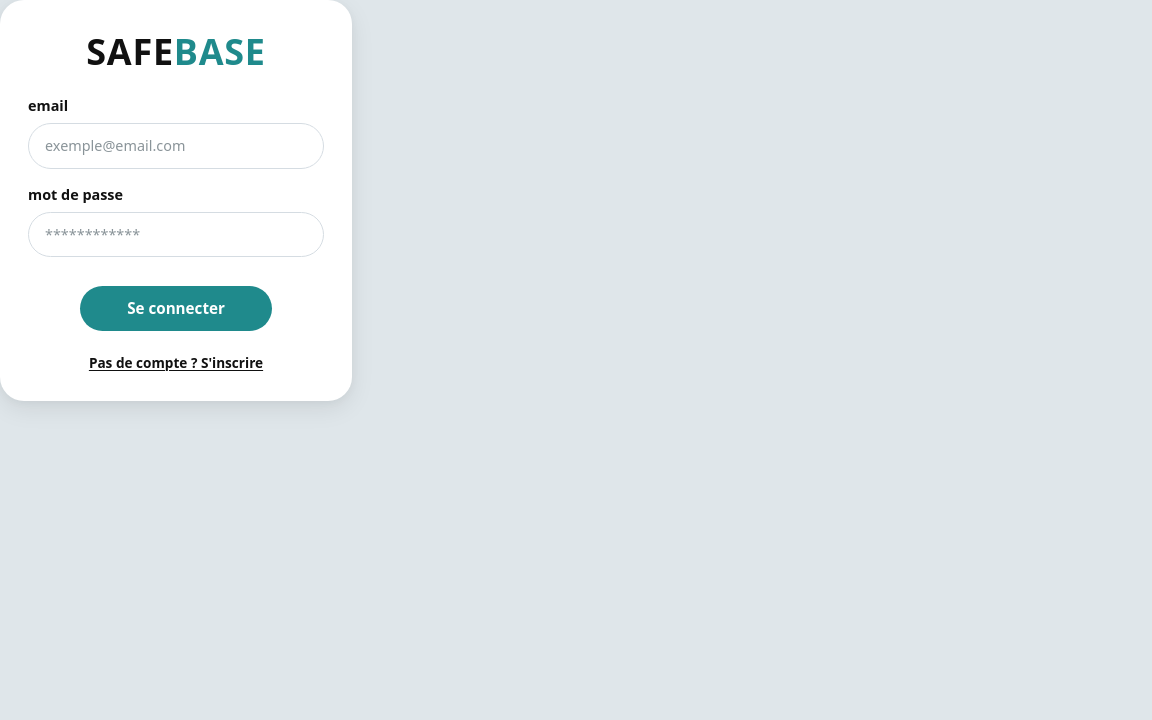
it: login › wrong password (US00-05) -> same generic message, stays on the login page
In the field labelled "email": [176, 146] box [28,123,324,169], type "emma@safebase.dev"
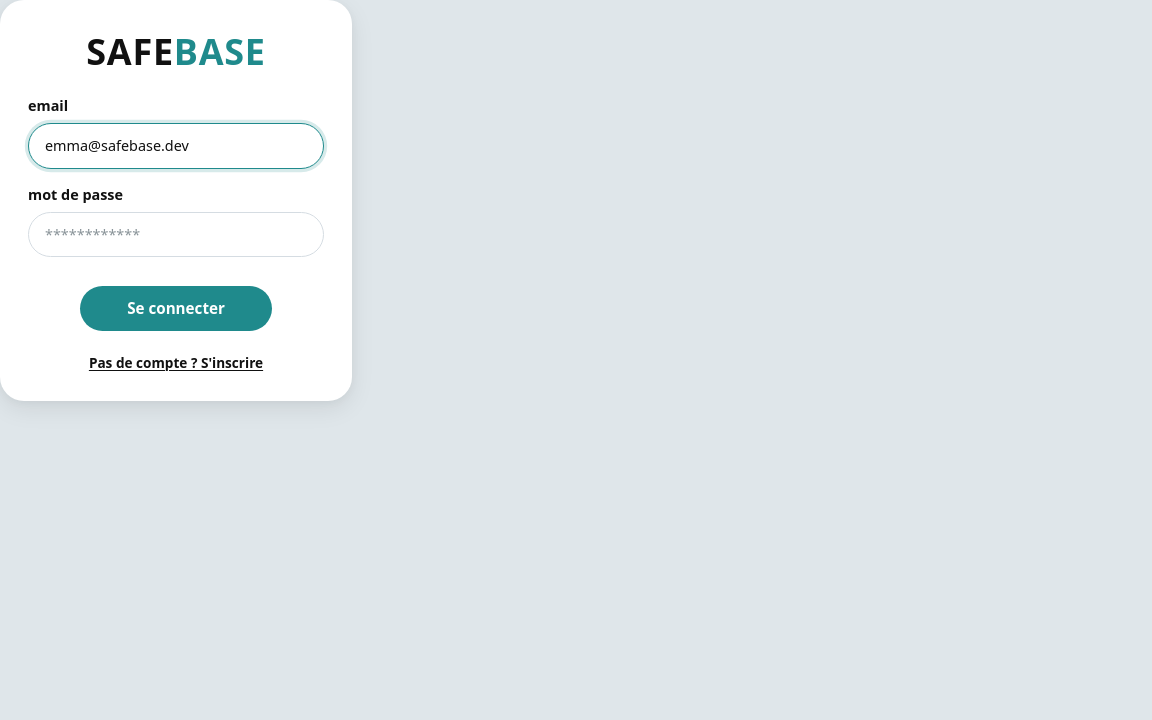
In the password field labelled "mot de passe": [176, 234] box [28,212,324,258], type "wrongpass"
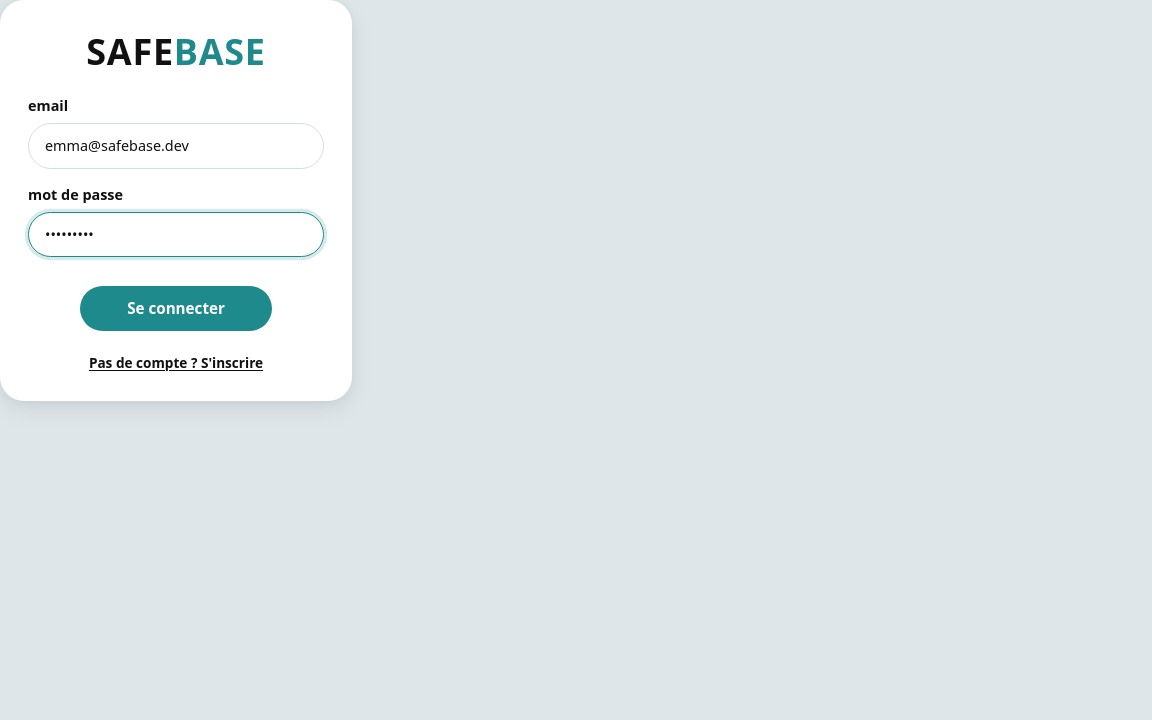
Click the button "Se connecter": [176, 309] box [80,286,272,332]
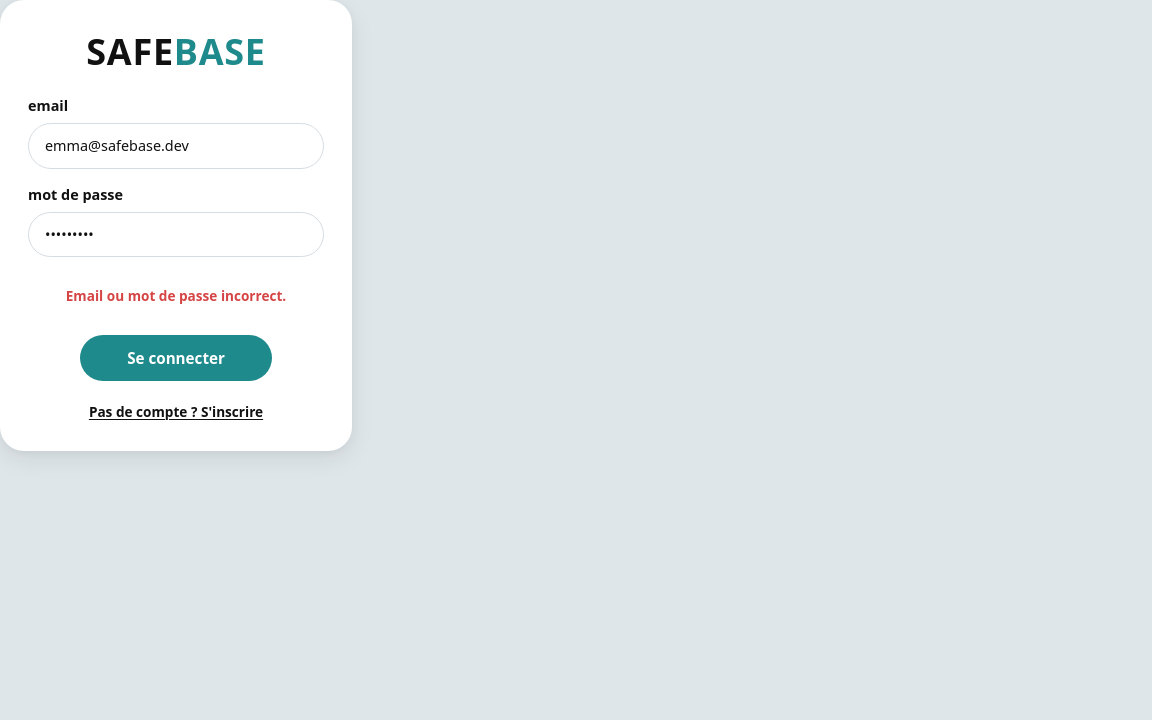
Now the text "Email ou mot de passe incorrect." is shown, box [66,286,286,305]
